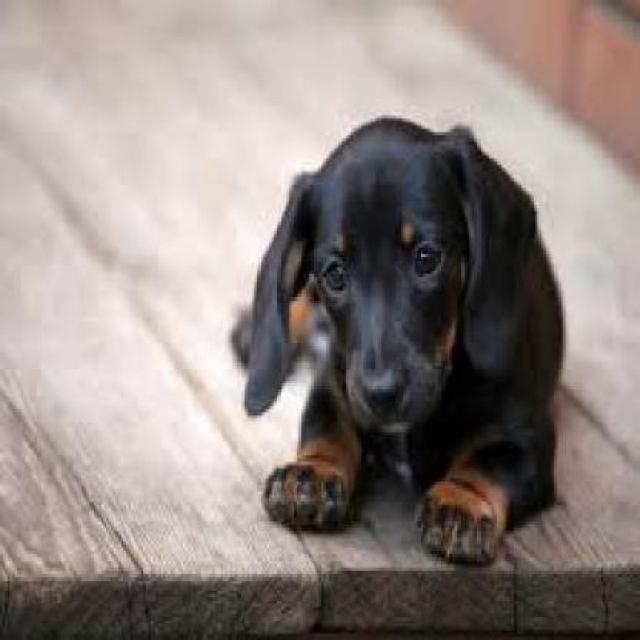animals: (222, 57, 578, 577)
